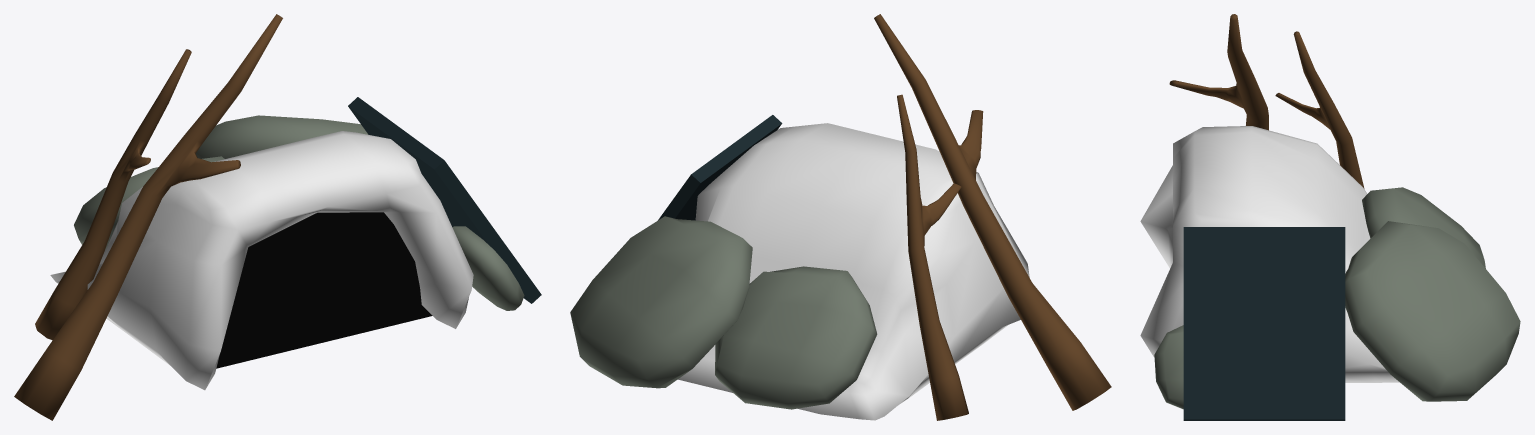
File: Enemy Spawner.fbx
The picture shows the model from 3 angles, left to right: view 1: azimuth 30°, elevation 25°; view 2: azimuth 150°, elevation 25°; view 3: azimuth 270°, elevation 25°; orthographic projection. The views are drawn at different scales.
Visible parts, largest first — view 1: Cave, Black Plane, Dead Tree.001, Dead Tree, Metal Plate, Rock, Rock.002, Rock.001; view 2: Cave, Rock, Rock.001, Dead Tree.001, Dead Tree, Metal Plate; view 3: Metal Plate, Cave, Rock, Rock.001, Dead Tree.001, Dead Tree, Rock.002.
Boxes of the visible parts, x1,y1,x2,y2 form: Cave: (50,131,473,390); Black Plane: (216,212,432,368); Dead Tree.001: (14,14,282,420); Dead Tree: (35,49,191,340); Metal Plate: (348,97,541,303); Rock: (196,115,368,158); Rock.002: (452,226,524,310); Rock.001: (74,156,224,249); Cave: (678,123,1029,420); Rock: (570,216,752,388); Rock.001: (715,266,877,409); Dead Tree.001: (874,14,1111,410); Dead Tree: (897,94,968,420); Metal Plate: (658,115,782,220); Metal Plate: (1183,227,1345,420); Cave: (1140,126,1399,382); Rock: (1345,221,1520,401); Rock.001: (1362,187,1485,268); Dead Tree.001: (1169,14,1268,130); Dead Tree: (1275,31,1364,188); Rock.002: (1154,325,1183,409).
Bounding box in the file's own units: 1627 × 1136 × 1177.
